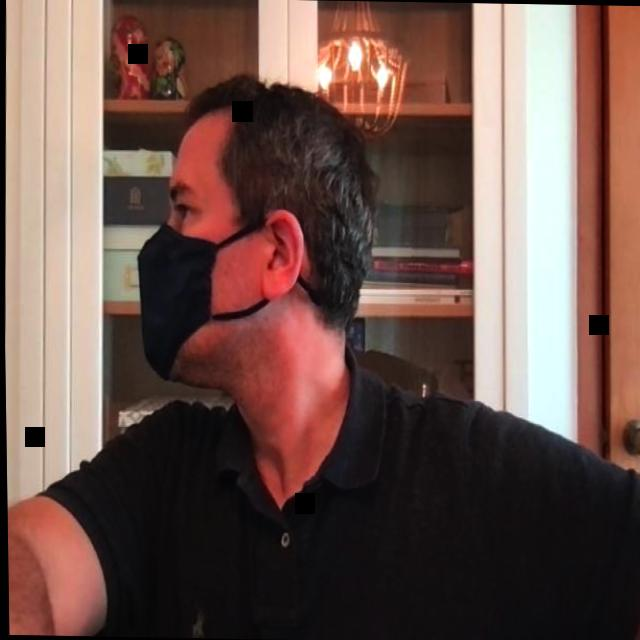Mask: (130, 70, 380, 398)
